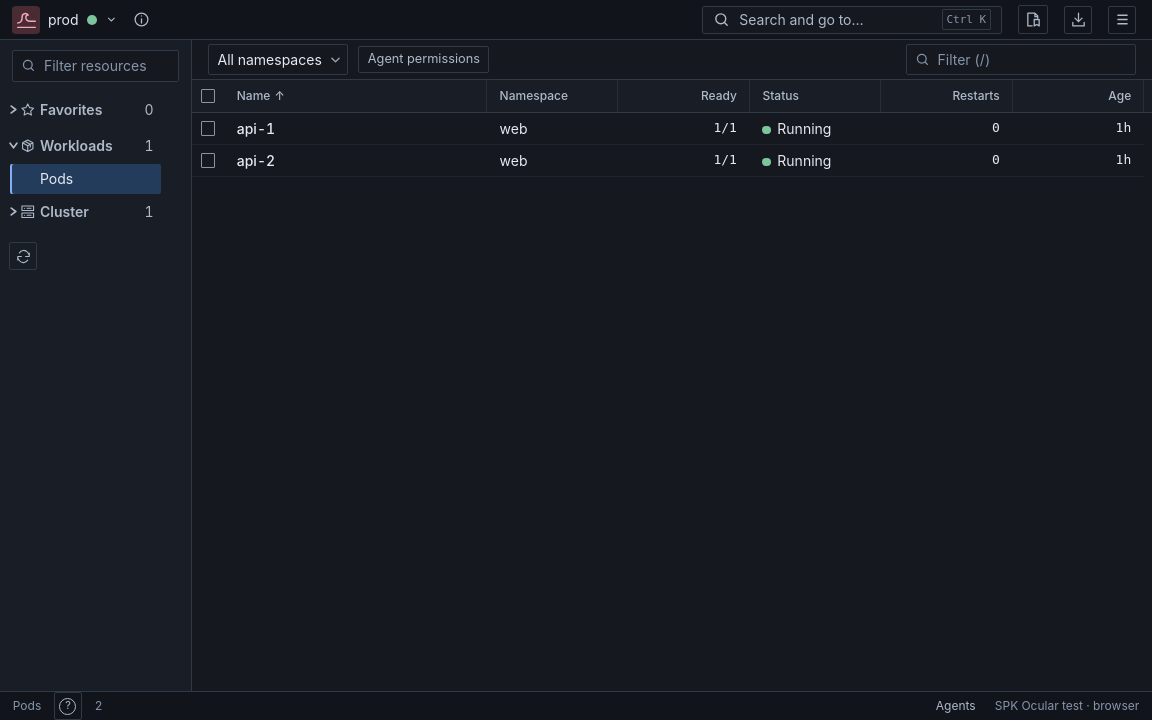
editing an object in the details › offers Edit only for editable kinds
Expected: the text "api-2" is shown, top-left (237, 152), bottom-right (275, 169)
Click the text "api-1" at (256, 128), box top-left (237, 120), bottom-right (275, 137)
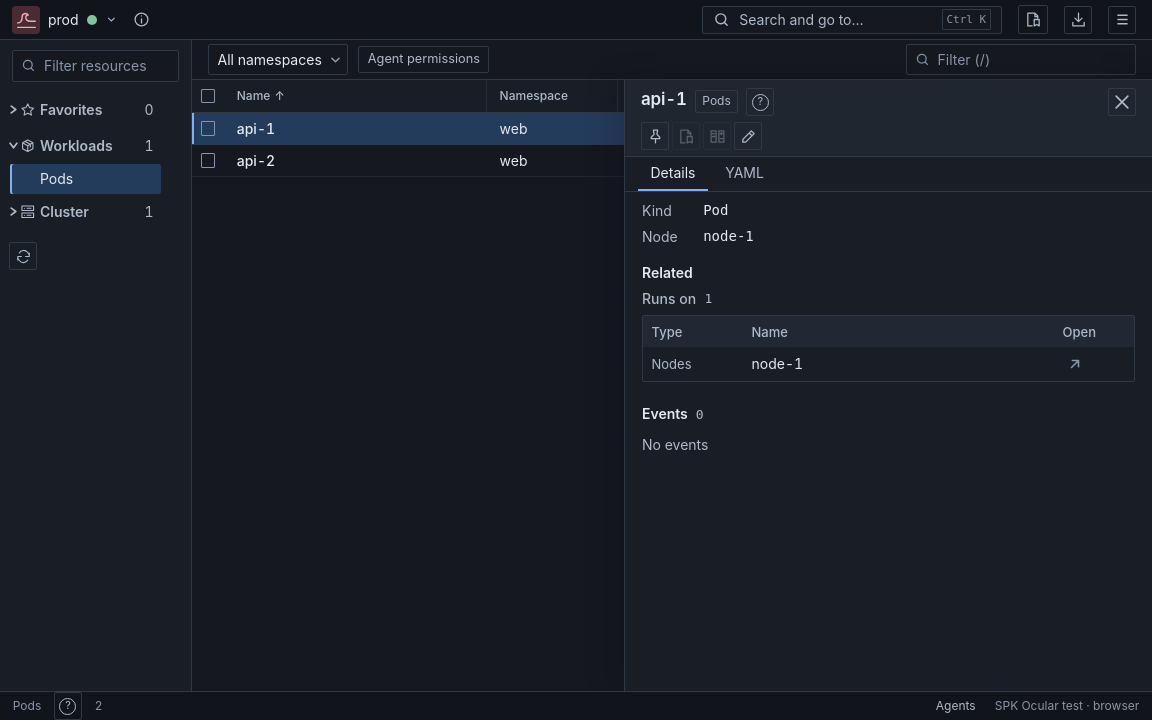
Now the button named "Edit" is enabled, box top-left (734, 122), bottom-right (762, 150)
Click the button named "nodes/node-1" at (1075, 364), box top-left (1062, 352), bottom-right (1088, 377)
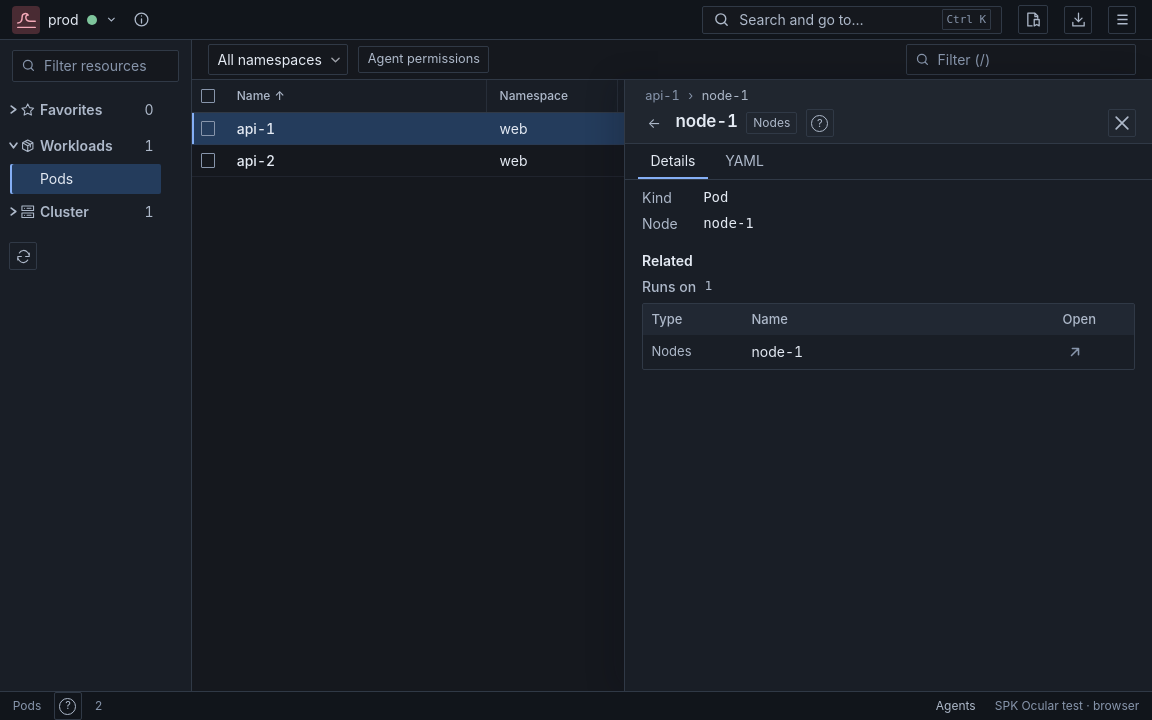
Now the dialog named "nodes node-1" is shown, box top-left (624, 80), bottom-right (1151, 691)
Now the button "Edit" is gone
